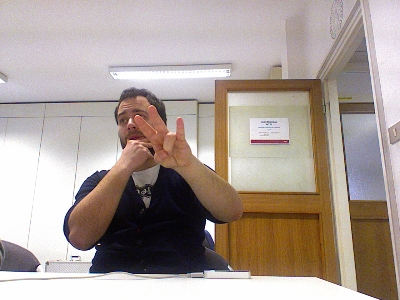观音: (133, 105, 193, 171)
